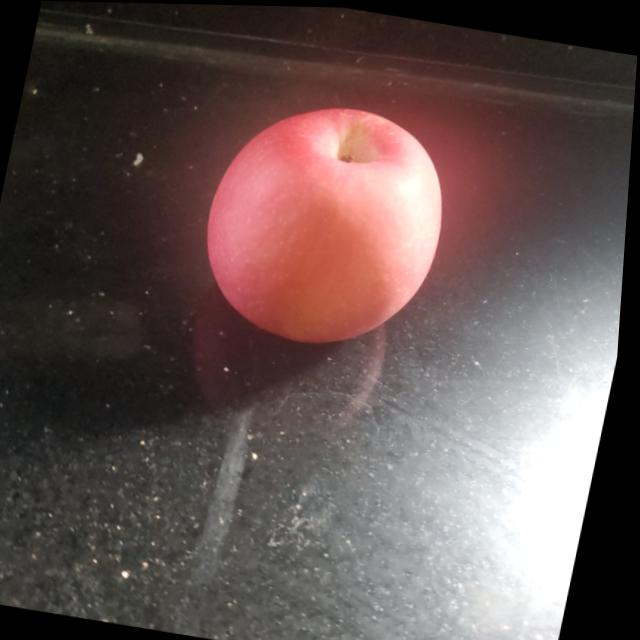apple: (195, 85, 468, 356)
